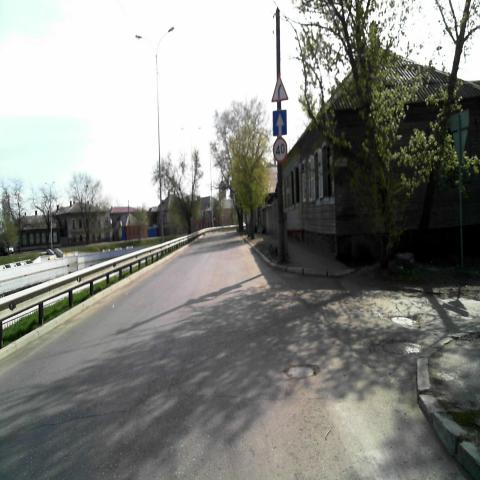1_11: (272, 74, 288, 102)
